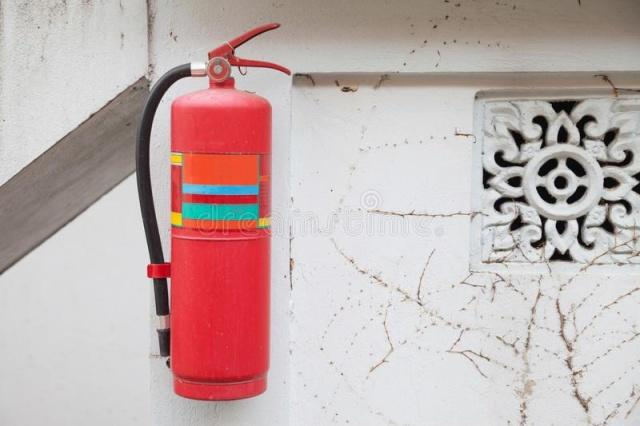APAR: (168, 21, 293, 402)
